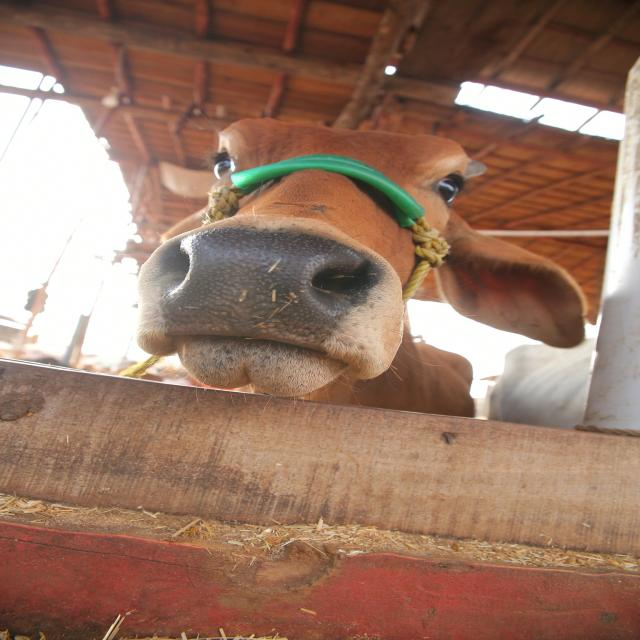muzzles: (146, 221, 382, 361)
